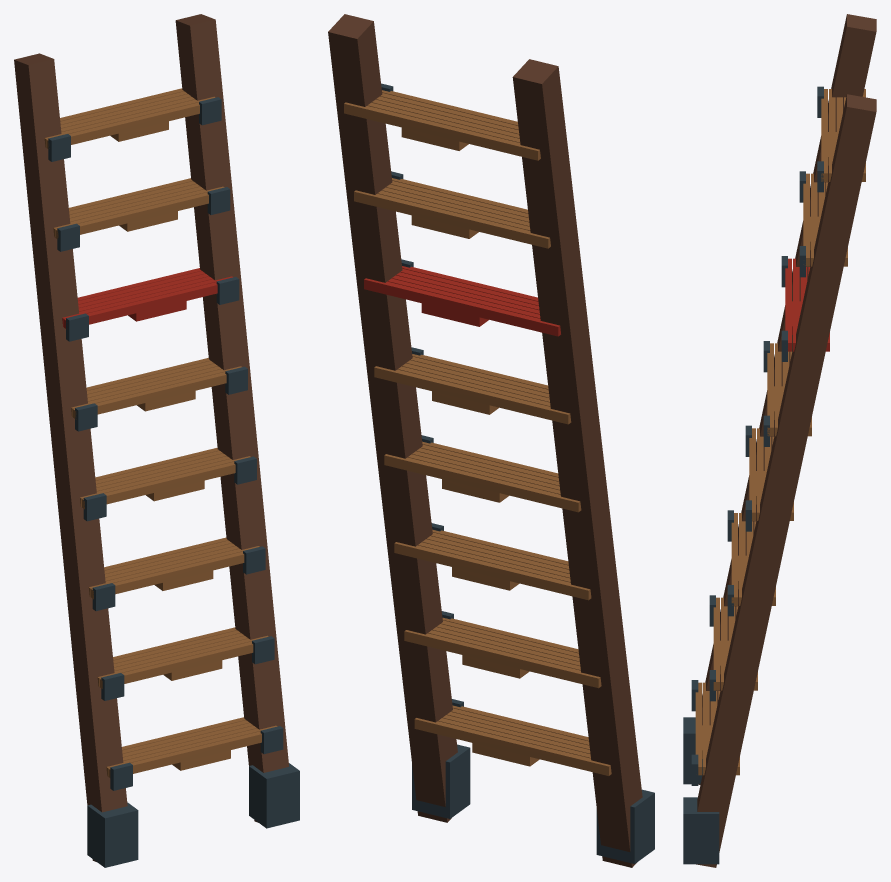
The model's file is salvage-ladder.glb.
3 views of the same model, side by side, from view 1: azimuth 30°, elevation 25°; view 2: azimuth 150°, elevation 25°; view 3: azimuth 270°, elevation 25° (orthographic). The views are drawn at different scales.
Visible parts, largest first — view 1: salvage-ladder; view 2: salvage-ladder; view 3: salvage-ladder.
Part boxes in pixels (x1,y1,x2,y2): salvage-ladder: (14,14,299,867); salvage-ladder: (328,14,654,867); salvage-ladder: (683,14,876,867).
Size of the model in its own units: 0.7 by 2.57 by 0.5902.
